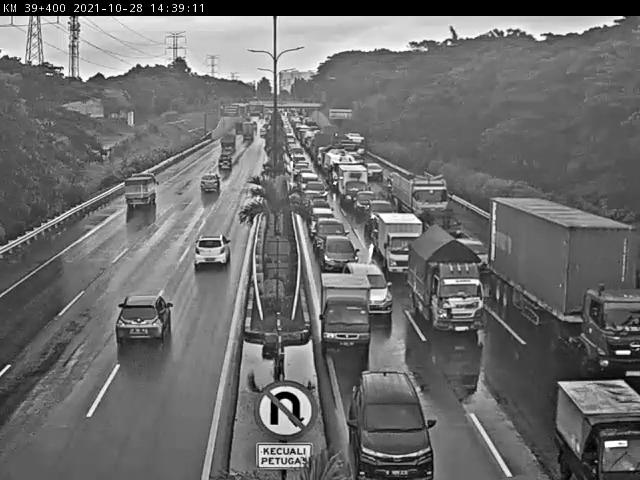big truck: (483, 175, 640, 393), (384, 171, 452, 226)
car: (335, 363, 445, 476), (98, 278, 188, 357), (183, 222, 244, 280), (344, 256, 394, 318), (316, 231, 361, 274), (454, 232, 491, 277), (310, 216, 351, 256), (197, 169, 225, 196)
small truck: (529, 353, 640, 480), (395, 219, 497, 340), (311, 267, 375, 361), (371, 210, 429, 277), (119, 173, 160, 217)
